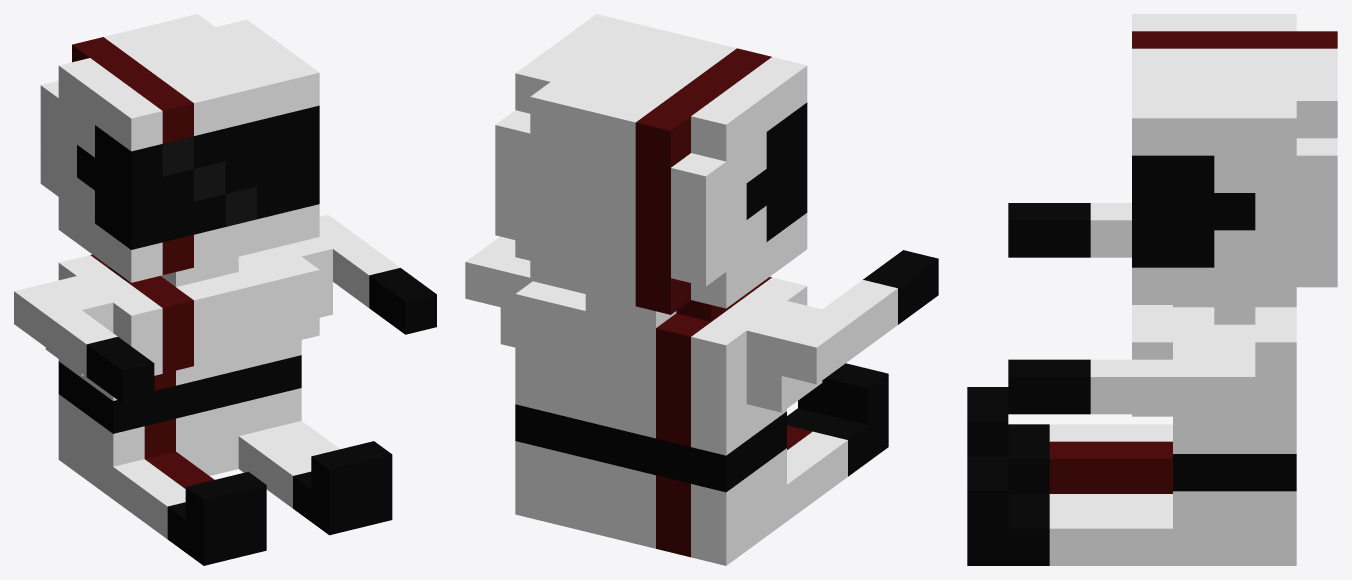
File: Maroon_Car_Driver_Sitting.obj
3 views of the same model, side by side, from view 1: azimuth 30°, elevation 25°; view 2: azimuth 150°, elevation 25°; view 3: azimuth 270°, elevation 25° (orthographic). The views are drawn at different scales.
Size of the model in its own units: 1 by 1.2 by 0.9.
1 material, 1 textured.
